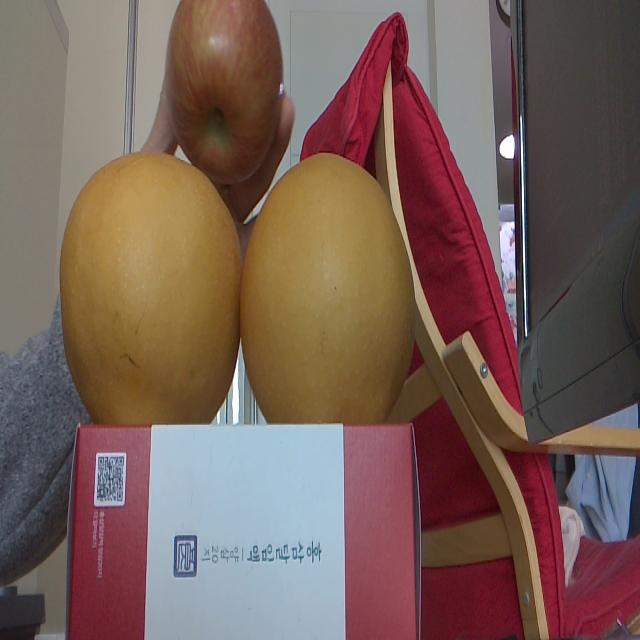apple: (163, 0, 287, 188)
pear: (58, 151, 243, 429), (242, 150, 416, 430)
